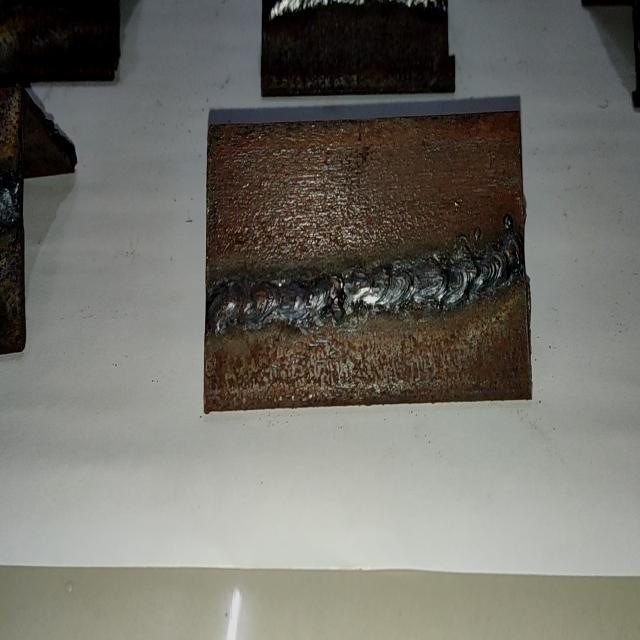Good Weld: (209, 224, 520, 333)
